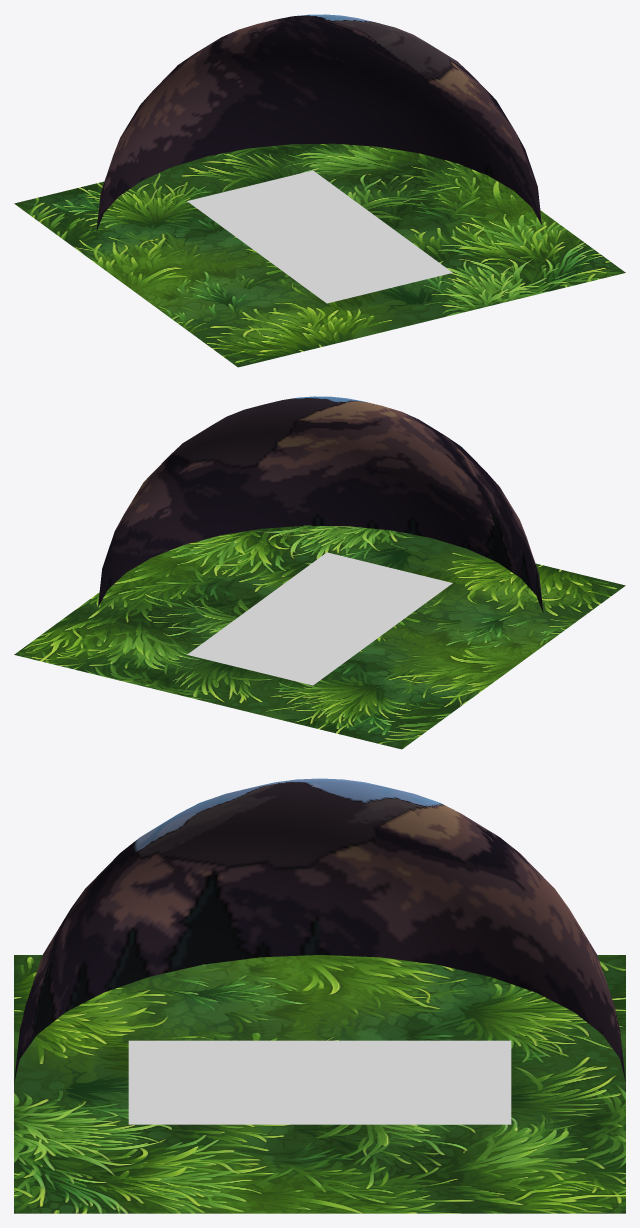
Rendered from back_ground.gltf.
3 views of the same model, one above another, from view 1: azimuth 30°, elevation 25°; view 2: azimuth 150°, elevation 25°; view 3: azimuth 270°, elevation 25° (orthographic). The views are drawn at different scales.
Visible parts, largest first — view 1: 球, 平面; view 2: 球, 平面; view 3: 球, 平面.
Boxes of the visible parts, x1,y1,x2,y2 form: 球: (14, 14, 625, 367); 平面: (187, 170, 452, 303); 球: (14, 396, 625, 749); 平面: (187, 552, 452, 685); 球: (14, 778, 625, 1213); 平面: (128, 1040, 511, 1124).
Size of the model in its own units: 400 by 201 by 400.
Materials: 4 (2 with a texture image).
